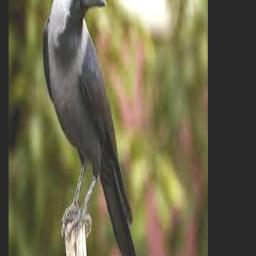Crow: (44, 0, 137, 256)
